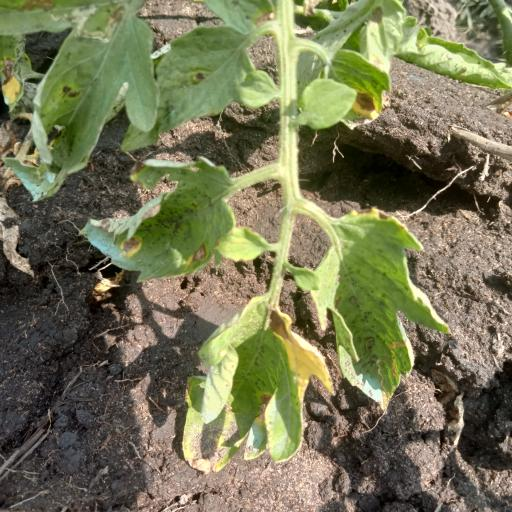Tomato_Brown_Spots: (306, 214, 447, 414), (178, 291, 329, 477), (81, 154, 253, 279)
